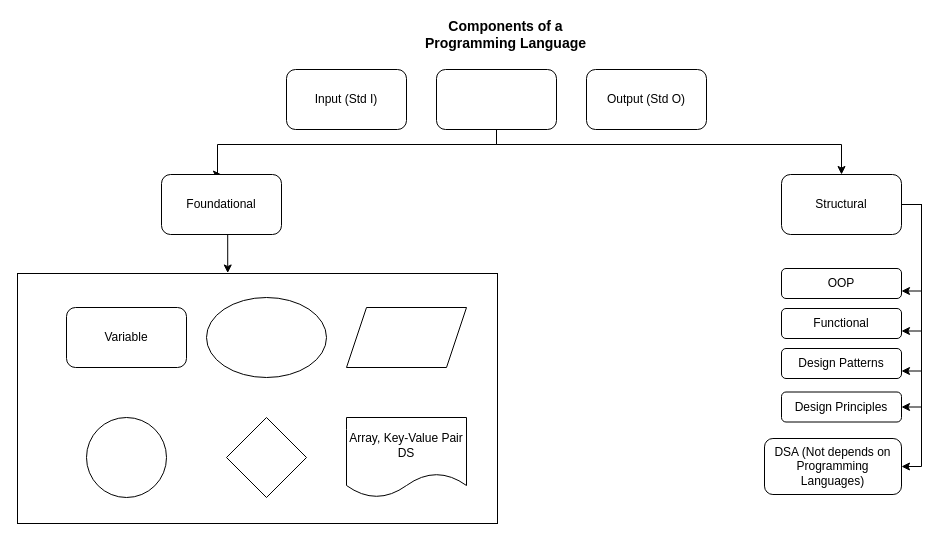
Some shapes in this 947 by 541 pixel diagram are drawn without their labels. The shapes that lost their labels are listed below. From the top down, each one's centre as x and y in pixels, then its label:
At [496,99]: "Processing (Somehow)".
At [266,337]: "Statement / Expression".
At [406,337]: "Operator".
At [126,457]: "Logic".
At [266,457]: "Function".
